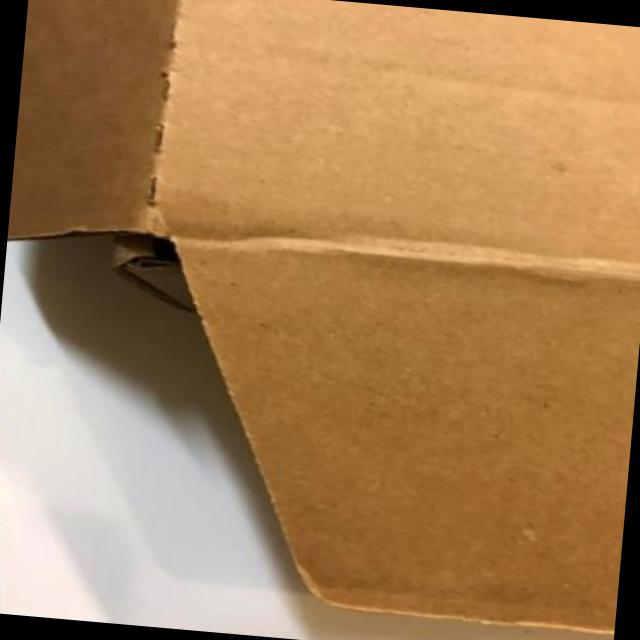cardboard paper: (6, 0, 640, 630)
